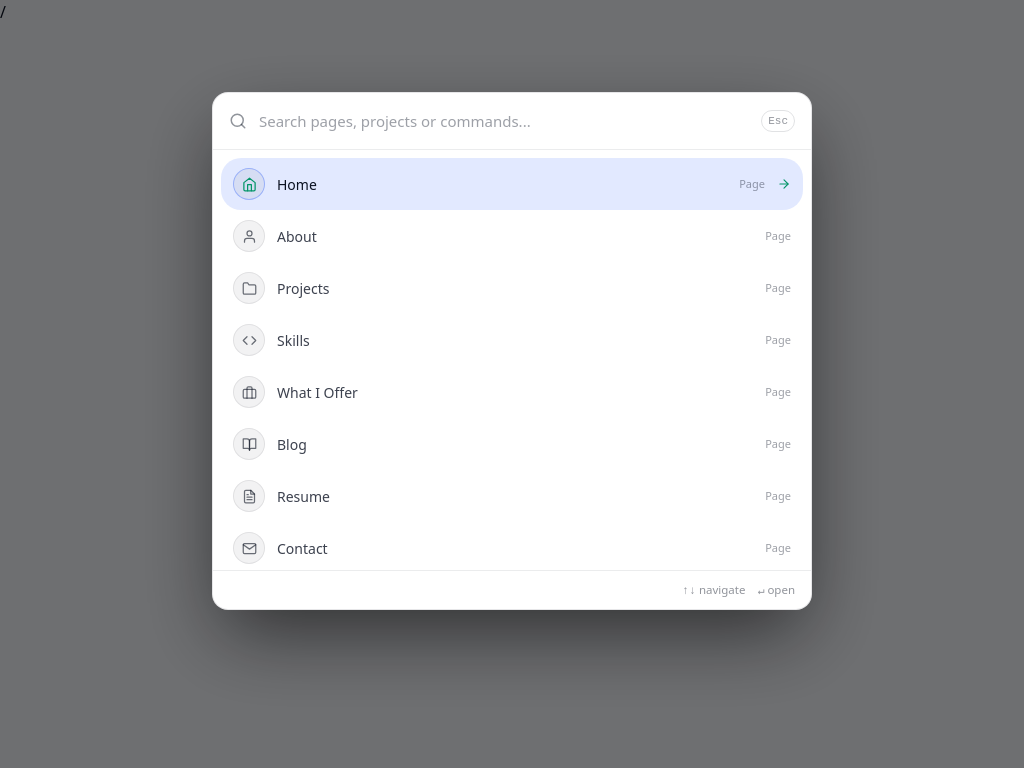
it: CommandPalette › filters as you type and navigates on Enter
Type "resume" into the dropdown. click: (504, 121)
box: [259, 93, 749, 149]
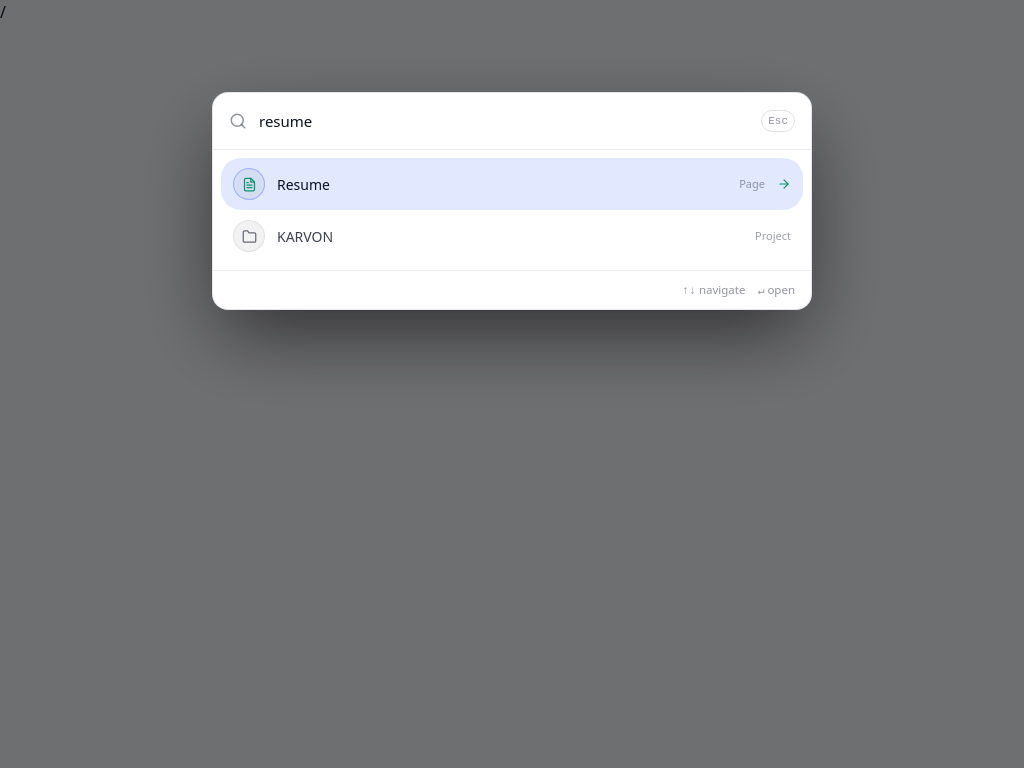
Expected: the option "Resume Page" is shown, [221, 158, 803, 210]
Press Enter in the dropdown, box [259, 93, 749, 149]
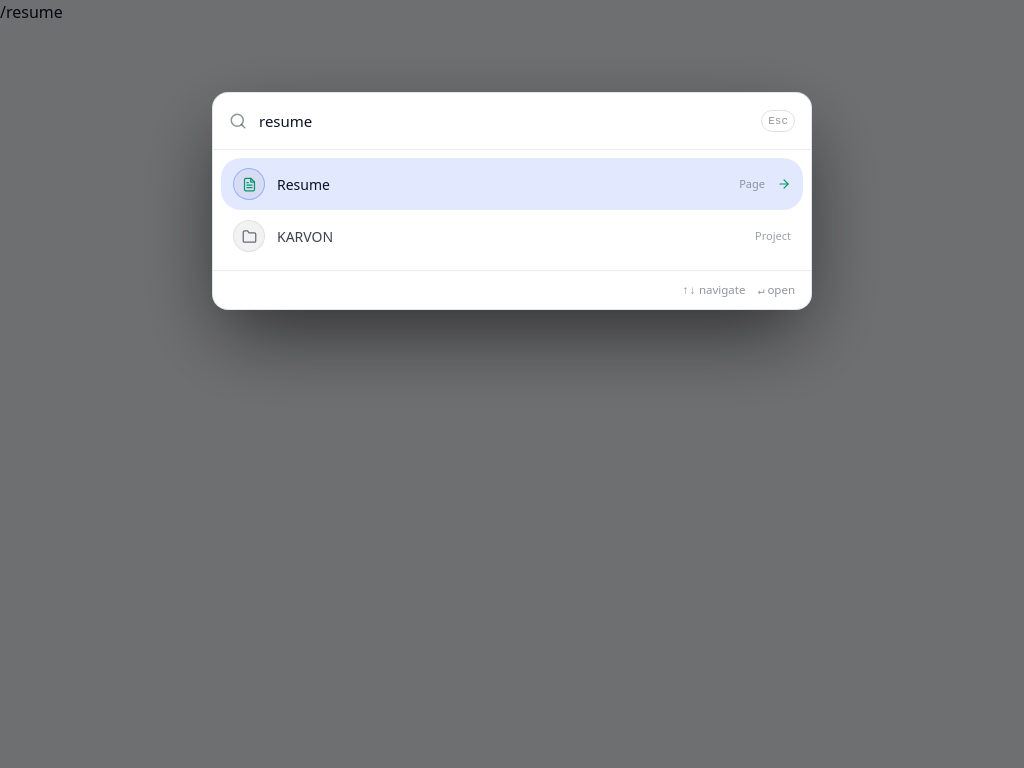
Result: the text with test id "where" reads "/resume" at [0, 1, 63, 23]
